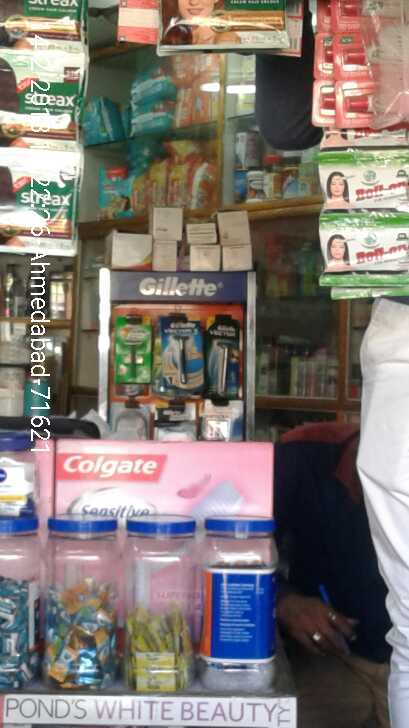beauty: (157, 318, 207, 395), (206, 316, 244, 401), (109, 318, 150, 390)
pharmacy: (39, 582, 120, 693)
